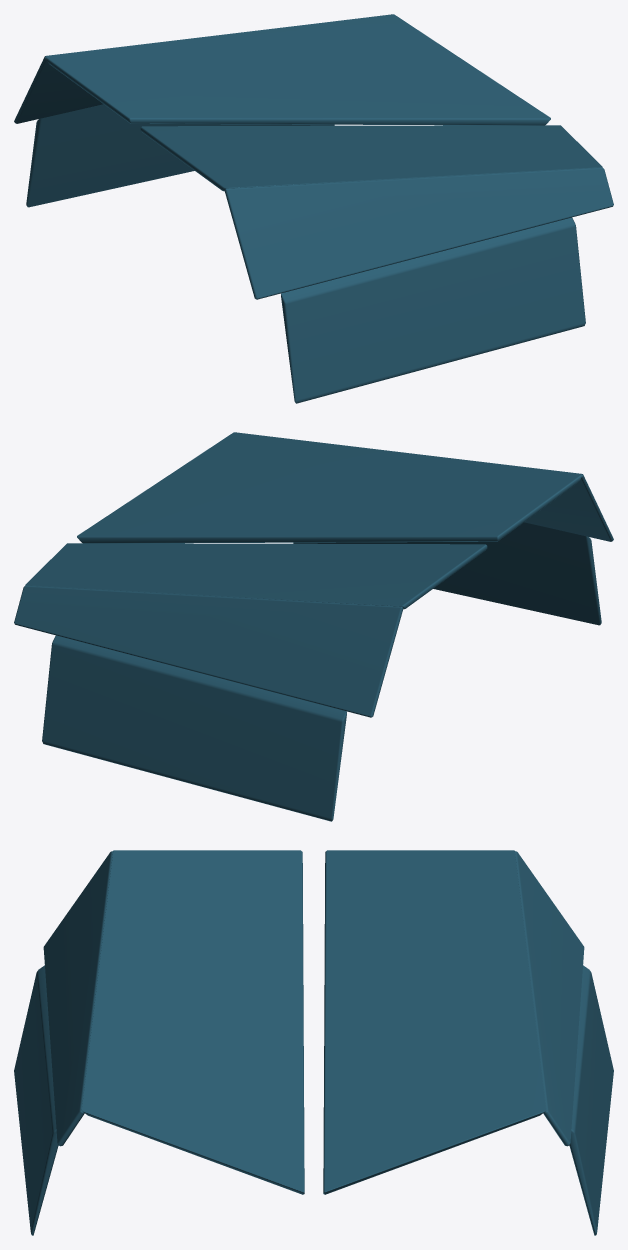
Rendered from SM_SSTO_CockpitGlass.fbx.
The picture shows the model from 3 angles, top to bottom: view 1: azimuth 30°, elevation 25°; view 2: azimuth 150°, elevation 25°; view 3: azimuth 270°, elevation 25°; orthographic projection. The views are drawn at different scales.
Parts seen in each view (by area): view 1: SM_SSTO_CockpitGlass; view 2: SM_SSTO_CockpitGlass; view 3: SM_SSTO_CockpitGlass.
Boxes of the visible parts, x1=… form: SM_SSTO_CockpitGlass: x1=14, y1=14, x2=613, y2=403; SM_SSTO_CockpitGlass: x1=14, y1=432, x2=613, y2=821; SM_SSTO_CockpitGlass: x1=14, y1=850, x2=613, y2=1235.
Bounding box in the file's own units: 578 × 641 × 249.
